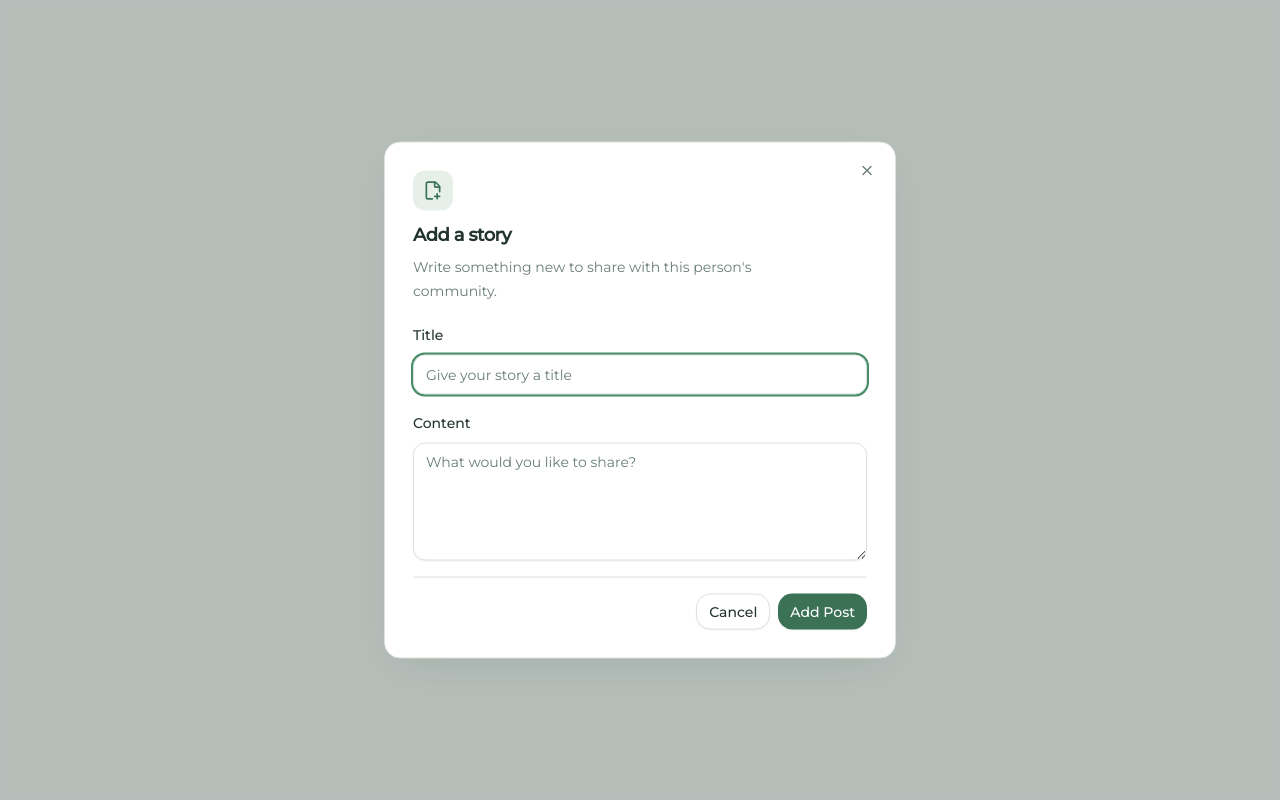
AddBlogPost Component › should show validation errors when submitting with empty fields
This screenshot has width=1280, height=800.
Click the button "Add Post": [823, 612] box [778,594,867,630]
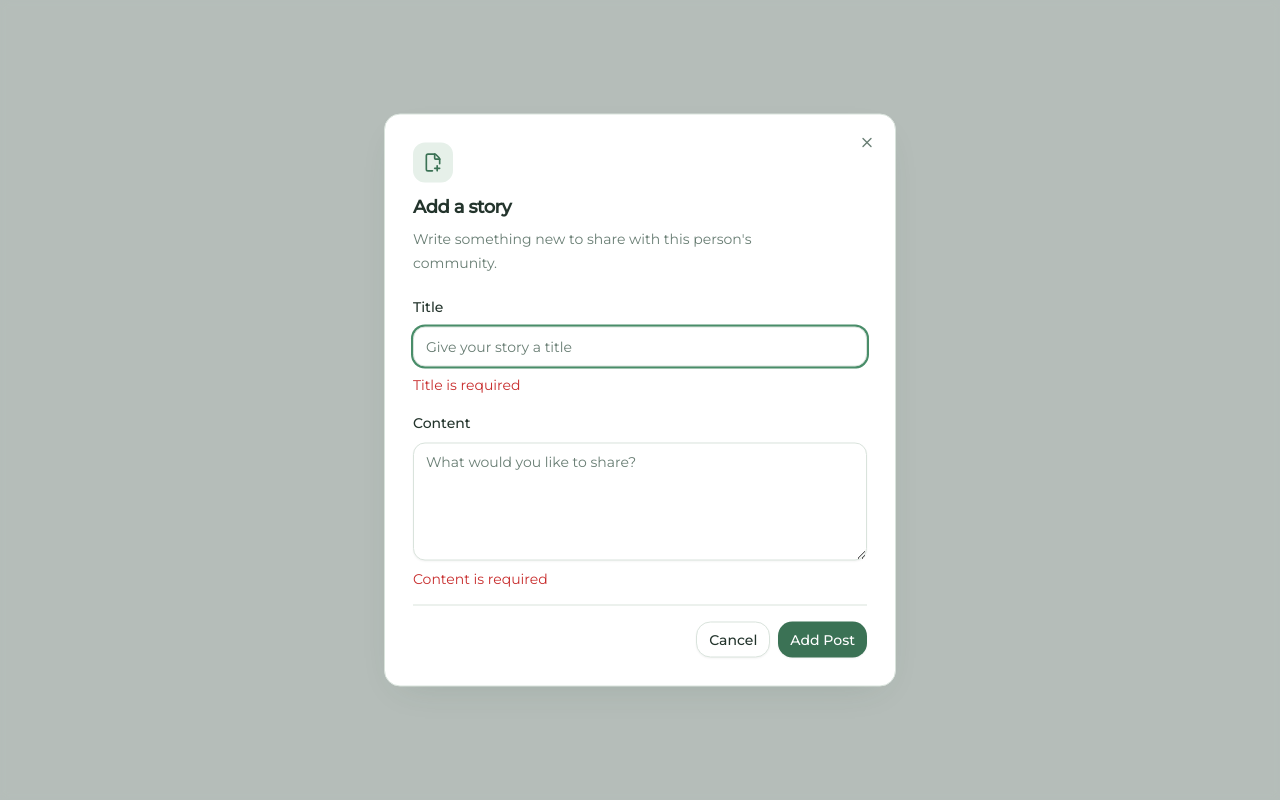
Expected: the text "Title is required" is shown, [413,376,520,394]
Expected: the text "Content is required" is shown, [413,570,548,588]
